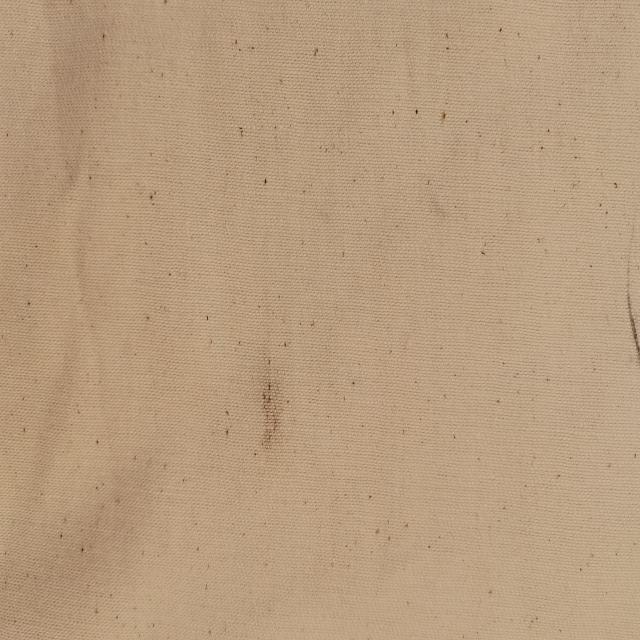taaaches: (246, 338, 290, 474), (621, 248, 640, 359)
